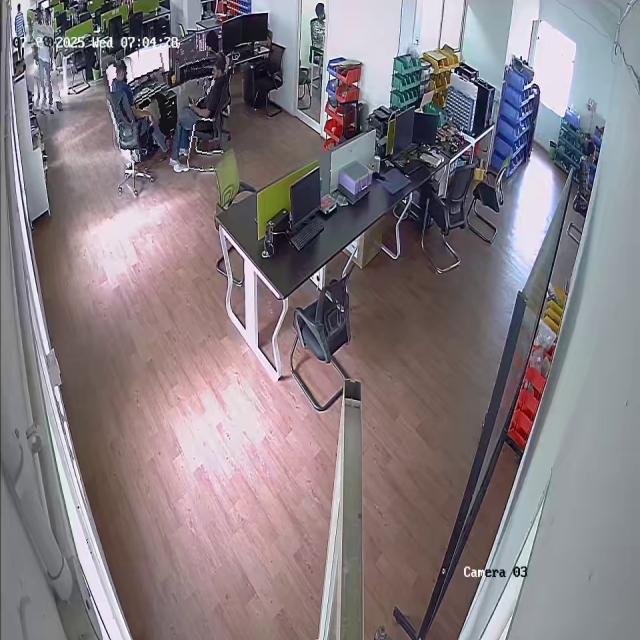person: (105, 55, 175, 163), (174, 50, 225, 171), (30, 8, 58, 114), (14, 3, 28, 61)
